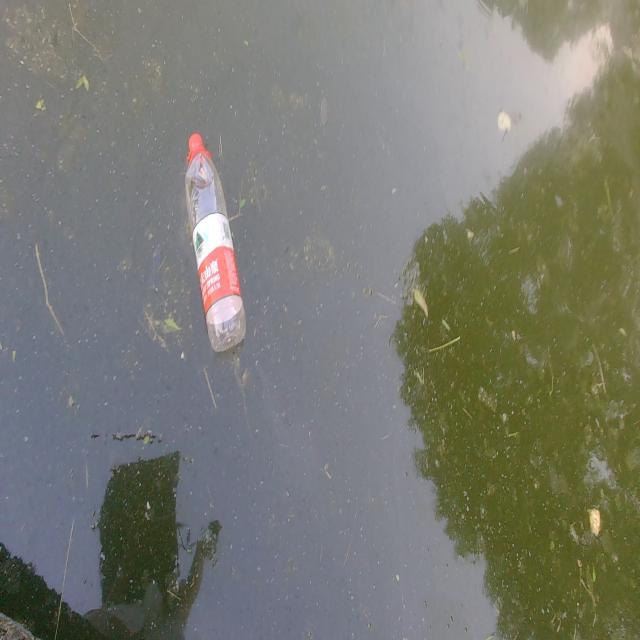bottle: (170, 122, 271, 360)
